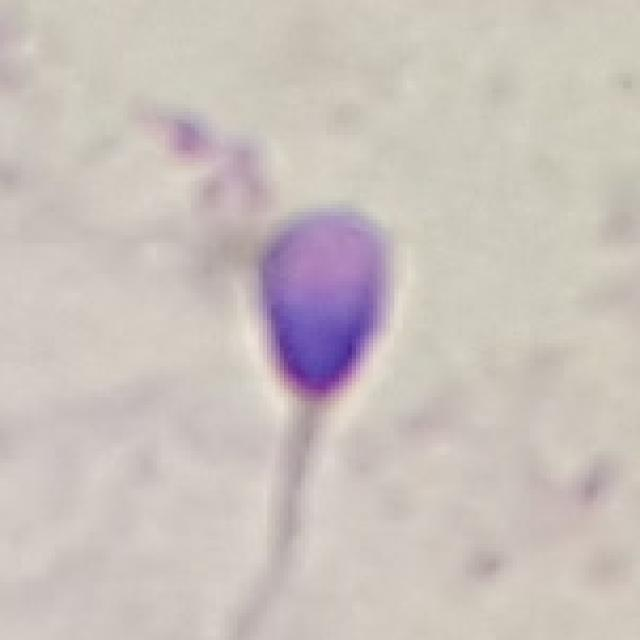normal sperm: (253, 207, 396, 478)
